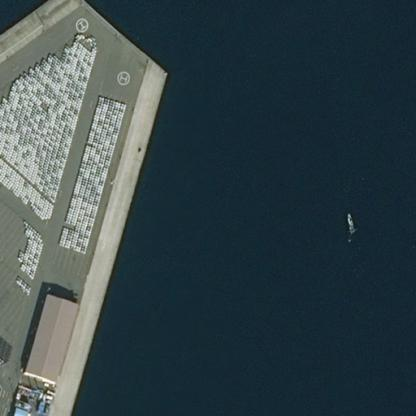ship: (340, 205, 360, 242)
